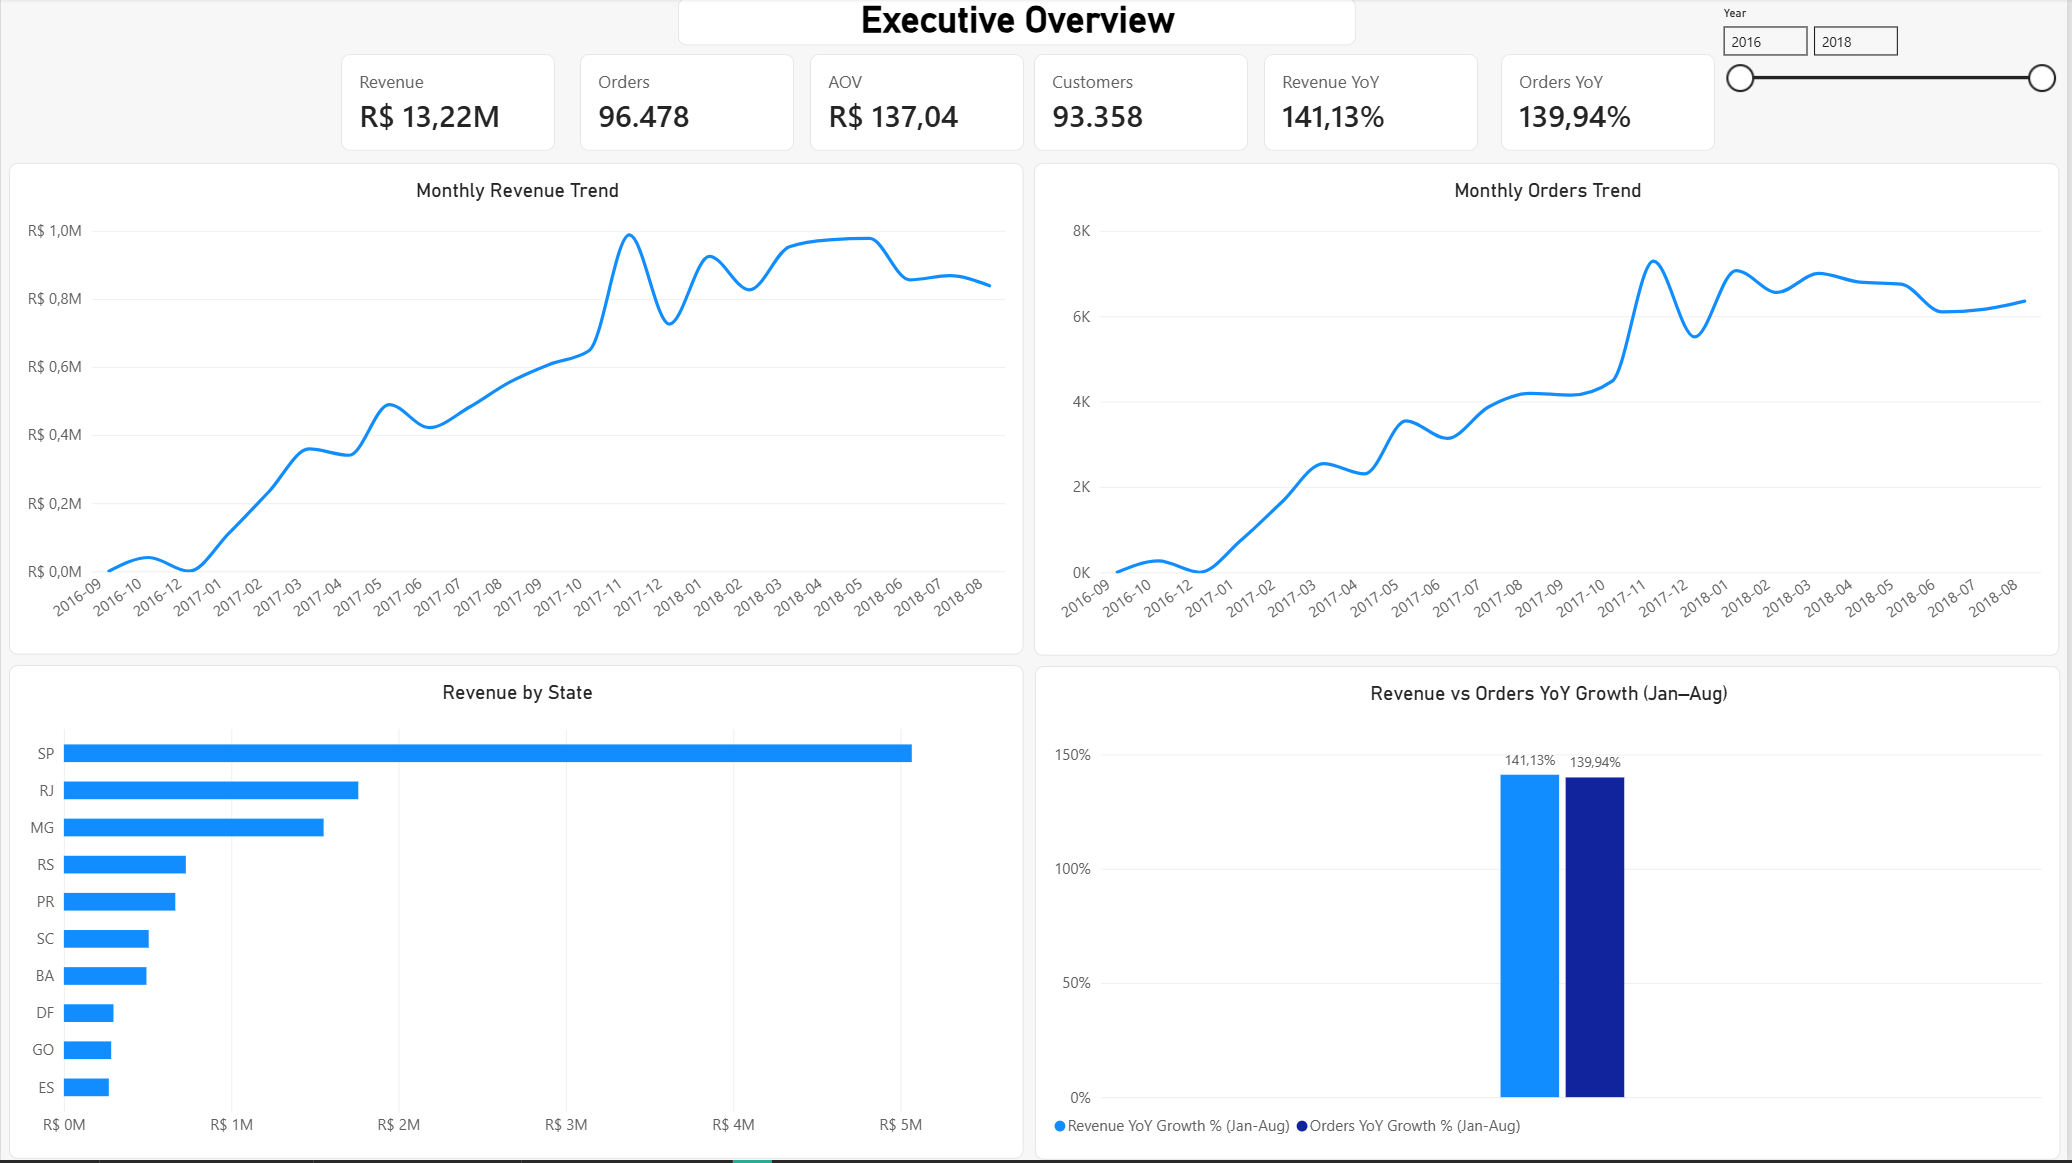

This screenshot's page, from the dashboard's own definition file:
{"tool":"powerbi","page":{"name":"Executive Overview","canvas":[1920,1080],"ordinal":0},"visuals":[{"type":"cardVisual","fields":{"Data":["FactOrders.Total Revenue"]},"box":[316.1,52,199.3,90.3],"z":0},{"type":"cardVisual","fields":{"Data":["FactOrders.Total Orders"]},"box":[537.9,52,199.3,90.3],"z":1000},{"type":"cardVisual","fields":{"Data":["FactOrders.Average Order Value"]},"box":[751.9,52,199.3,90.3],"z":2000},{"type":"cardVisual","fields":{"Data":["FactOrders.Total Customers"]},"box":[960,52,199.3,90.3],"z":3000},{"type":"lineChart","title":"Monthly Revenue Trend","fields":{"Category":["DimDate.Year Month"],"Y":["FactOrders.Total Revenue"]},"box":[7.9,153.1,943.3,457.4],"z":4000},{"type":"lineChart","title":"Monthly Orders Trend","fields":{"Category":["DimDate.Year Month"],"Y":["FactOrders.Total Orders"]},"box":[960,153.1,953.1,458.4],"z":5000},{"type":"clusteredBarChart","title":"Revenue by State","fields":{"Category":["FactOrders.customer_state"],"Y":["FactOrders.Total Revenue"]},"box":[7.9,620.4,943.3,459.4],"z":6000},{"type":"slicer","fields":{"Values":["DimDate.Year"]},"box":[1593.1,7.9,320,87.4],"z":7000},{"type":"cardVisual","fields":{"Data":["FactOrders.Revenue YoY Growth % (Jan-Aug)"]},"box":[1174,52,199.3,90.3],"z":8000},{"type":"textbox","title":"Executive Overview","box":[629.2,0,630.2,44.2],"z":9000},{"type":"cardVisual","fields":{"Data":["FactOrders.Orders YoY Growth % (Jan-Aug)"]},"box":[1393.9,52,199.3,90.3],"z":10000},{"type":"clusteredColumnChart","title":"Revenue vs Orders YoY Growth (Jan–Aug)","fields":{"Y":["FactOrders.Revenue YoY Growth % (Jan-Aug)","FactOrders.Orders YoY Growth % (Jan-Aug)"]},"box":[960.8,620.8,952.8,458.7],"z":11000}]}

Visuals, with their boxes in screenshot pixels (x1, y1, x2, y2), scaled from the page's 1920x1080 canvas onto the 2072x1163 screenshot:
cardVisual - FactOrders.Total Revenue: [left=341, top=56, right=556, bottom=153]
cardVisual - FactOrders.Total Orders: [left=580, top=56, right=796, bottom=153]
cardVisual - FactOrders.Average Order Value: [left=811, top=56, right=1027, bottom=153]
cardVisual - FactOrders.Total Customers: [left=1036, top=56, right=1251, bottom=153]
"Monthly Revenue Trend" lineChart: [left=9, top=165, right=1027, bottom=657]
"Monthly Orders Trend" lineChart: [left=1036, top=165, right=2065, bottom=658]
"Revenue by State" clusteredBarChart: [left=9, top=668, right=1027, bottom=1162]
slicer - DimDate.Year: [left=1719, top=9, right=2065, bottom=103]
cardVisual - FactOrders.Revenue YoY Growth % (Jan-Aug): [left=1267, top=56, right=1482, bottom=153]
"Executive Overview" textbox: [left=679, top=0, right=1359, bottom=48]
cardVisual - FactOrders.Orders YoY Growth % (Jan-Aug): [left=1504, top=56, right=1719, bottom=153]
"Revenue vs Orders YoY Growth (Jan–Aug)" clusteredColumnChart: [left=1037, top=669, right=2065, bottom=1162]
